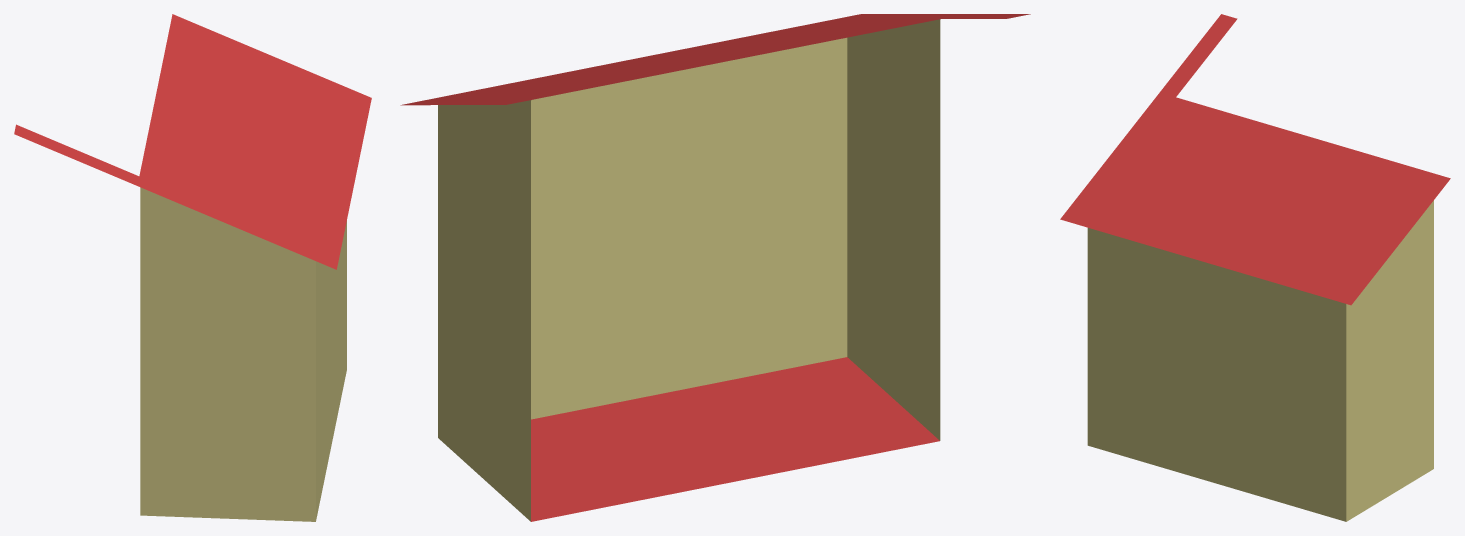
The picture shows the model from 3 angles, left to right: view 1: azimuth 30°, elevation 25°; view 2: azimuth 150°, elevation 25°; view 3: azimuth 270°, elevation 25°; orthographic projection. The views are drawn at different scales.
Bounding box in the file's own units: 10.9 × 9.81 × 9.31.
